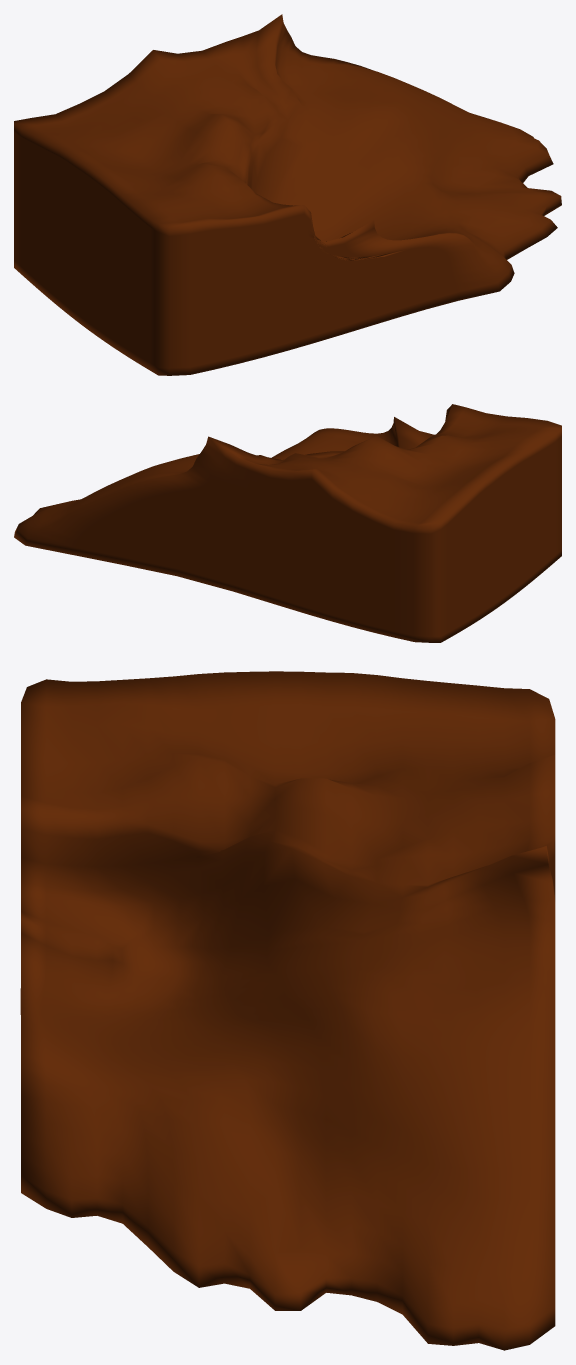
The model's file is chocolate_medio.fbx.
3 renders of one model, top to bottom at view 1: azimuth 30°, elevation 25°; view 2: azimuth 150°, elevation 25°; view 3: azimuth 270°, elevation 25°, orthographic. The views are drawn at different scales.
Parts seen in each view (by area): view 1: Chocolate_medio; view 2: Chocolate_medio; view 3: Chocolate_medio.
Part boxes in pixels (x1,y1,x2,y2): Chocolate_medio: [14, 14, 561, 375]; Chocolate_medio: [14, 404, 561, 642]; Chocolate_medio: [20, 671, 555, 1350].
Size of the model in its own units: 353 by 126 by 189.
